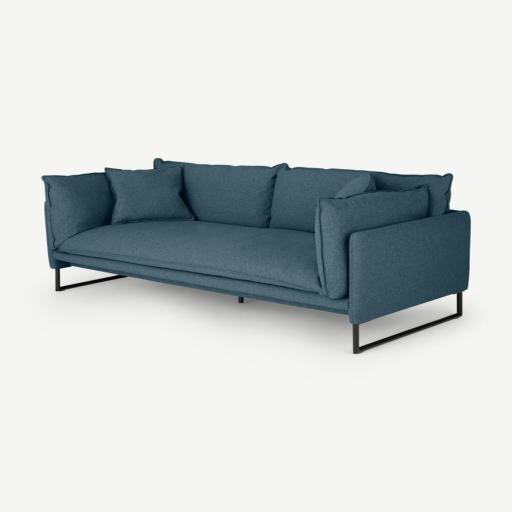back_cushion: (106, 159, 452, 232)
base: (72, 257, 348, 314)
left_arm: (349, 211, 470, 339)
legs: (352, 292, 462, 353), (56, 269, 126, 291)
one-seater: (0, 0, 511, 512)
right_arm: (42, 173, 114, 268)
seat_cushion: (58, 220, 320, 294)
